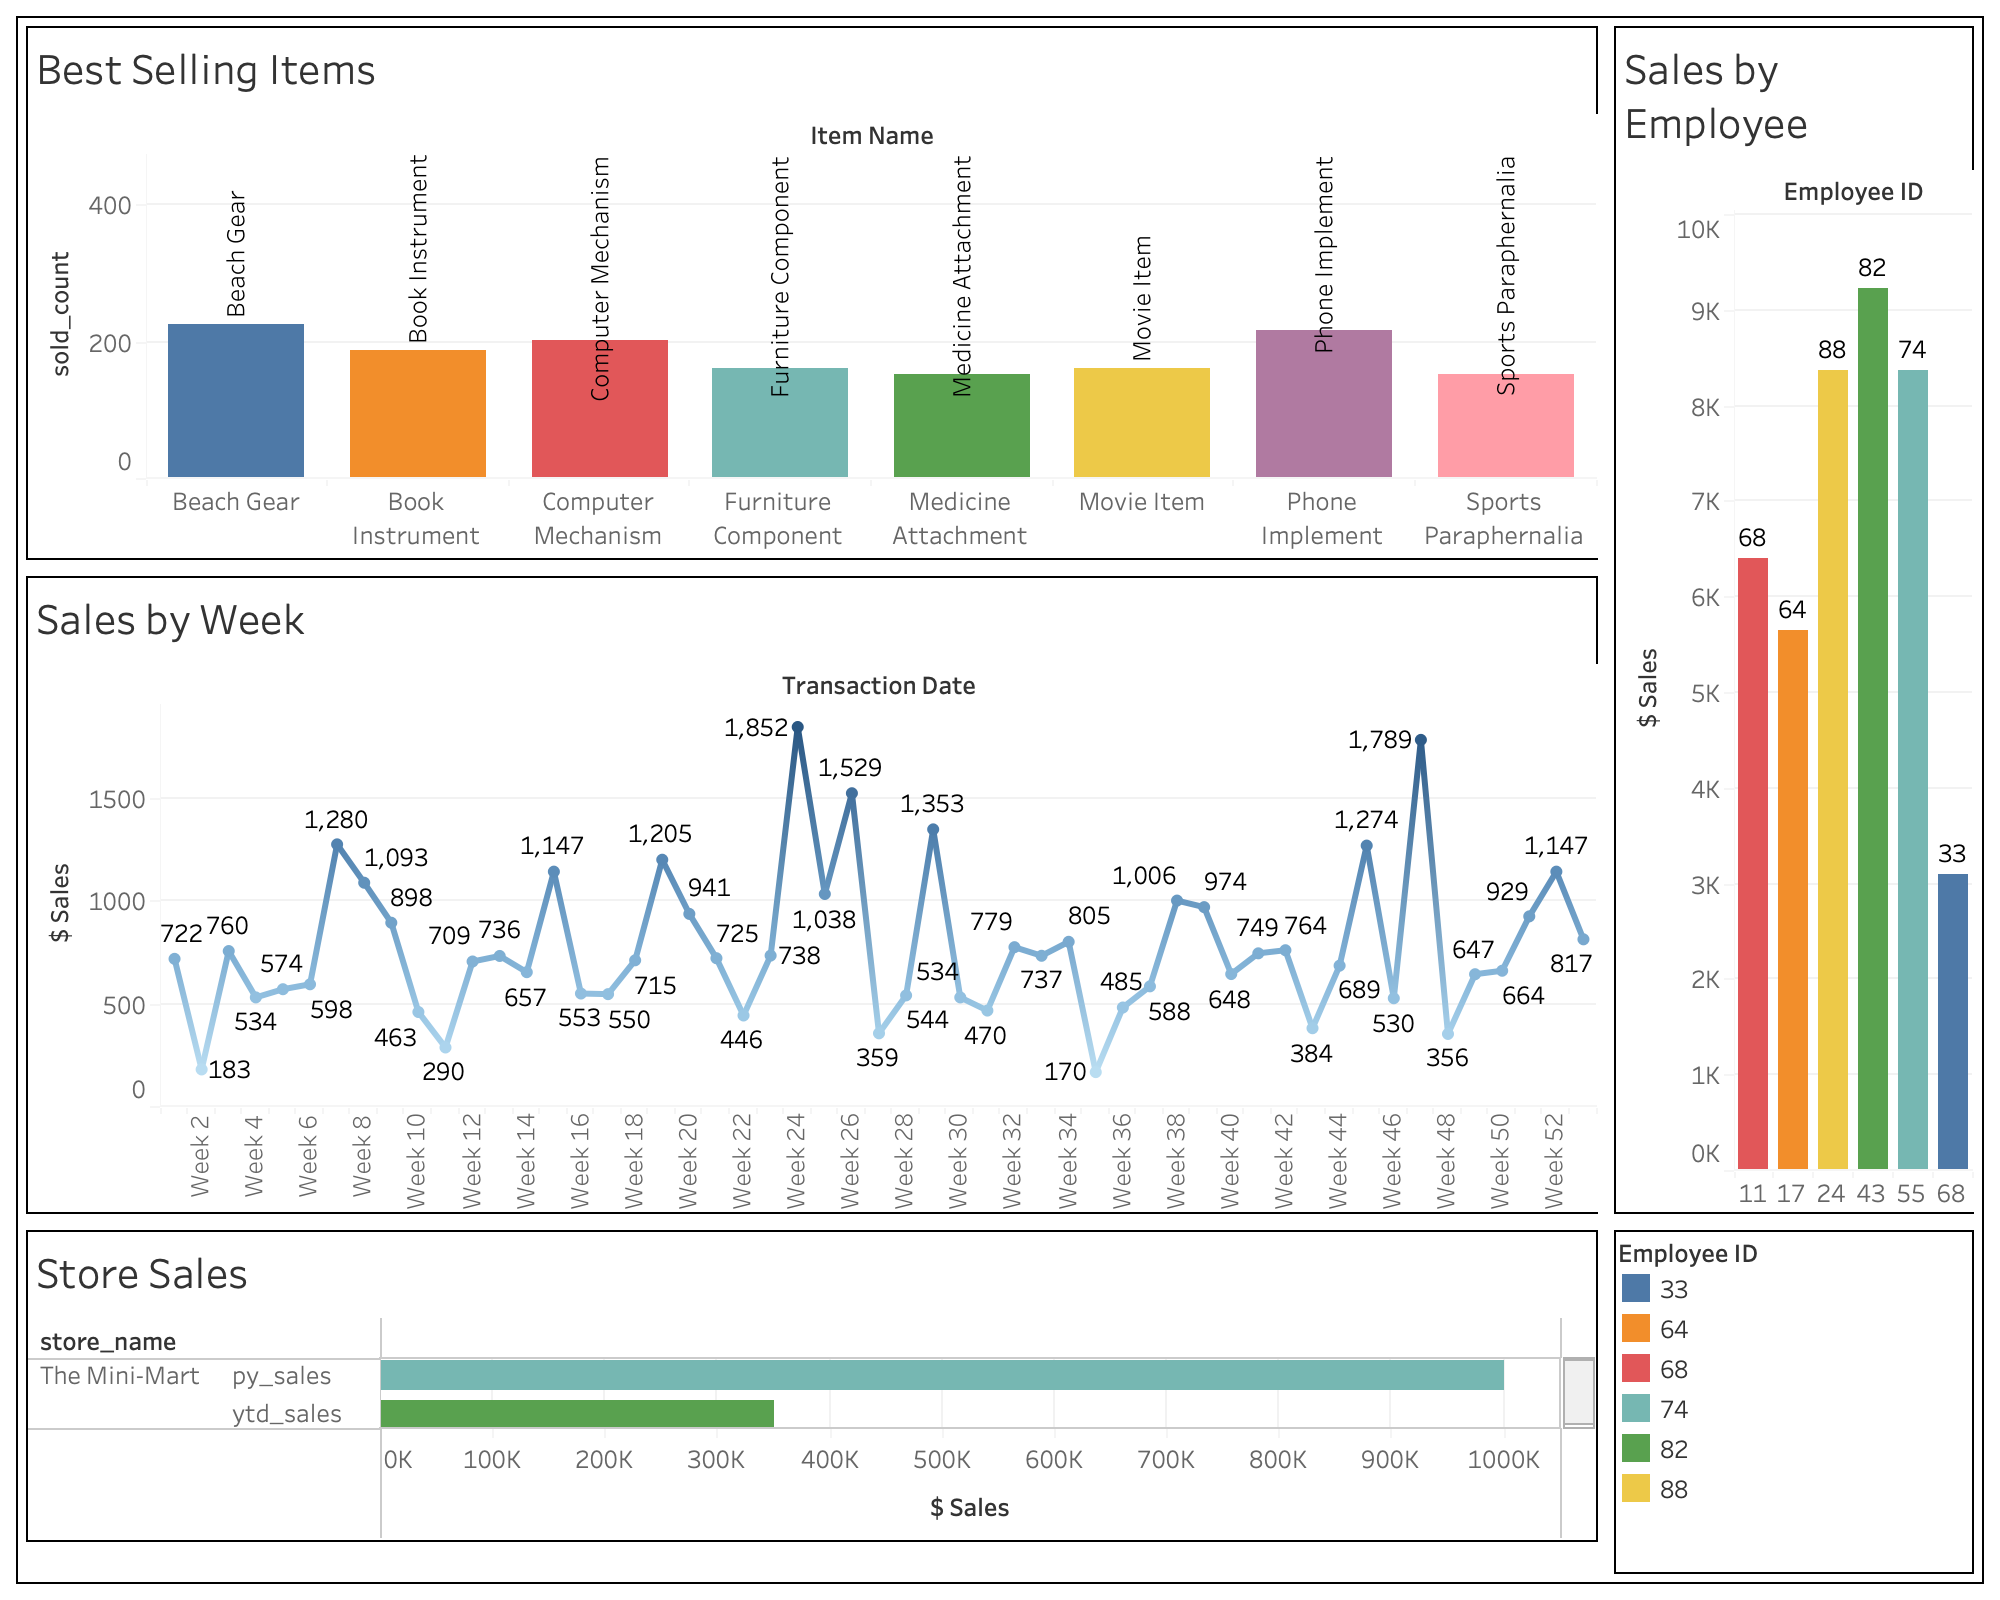

This screenshot's page, from the dashboard's own definition file:
{"tool":"tableau","page":{"name":"Sales1","canvas":[1000,800],"ordinal":1},"visuals":[{"type":"worksheet","title":"Best Selling Items","mark":"Automatic","rows":["sold_count"],"cols":["item_name"],"box":[9,9,794,275.3]},{"type":"worksheet","title":"Sales","mark":"Automatic","rows":["total_amount"],"cols":["employee_id"],"box":[803,9,188,602.5]},{"type":"worksheet","title":"Weekly","mark":"Automatic","rows":["total_amount"],"cols":["transaction_date"],"box":[9,284.3,794,327.2]},{"type":"worksheet","title":"Store","mark":"Automatic","rows":["store_name"],"box":[9,611.5,794,164]},{"type":"legend","title":"Sales","param":"[federated.1mlrtwl0lsv6zg1btm9df1firohz].[cnt:employee_id:ok]","box":[803,611.5,188,179.5]}]}

Visuals, with their boxes in screenshot pixels (x1, y1, x2, y2), scaled from the page's 1000x800 canvas onto the 2000x1600 screenshot:
"Best Selling Items" worksheet: <region>18, 18, 1606, 569</region>
"Sales" worksheet: <region>1606, 18, 1982, 1223</region>
"Weekly" worksheet: <region>18, 569, 1606, 1223</region>
"Store" worksheet: <region>18, 1223, 1606, 1551</region>
"Sales" legend: <region>1606, 1223, 1982, 1582</region>
